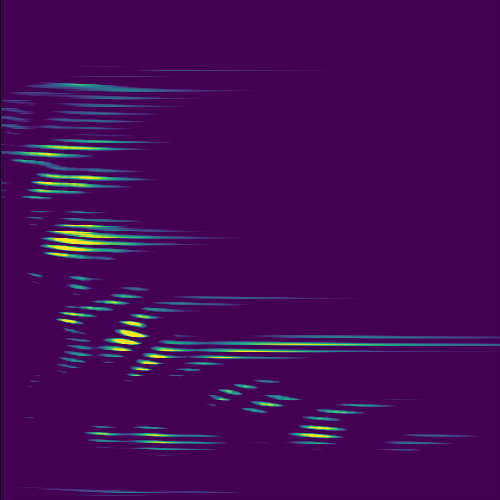semblance: (56, 293, 184, 379), (40, 216, 135, 262), (208, 378, 288, 413), (19, 138, 128, 163), (32, 169, 117, 201), (296, 419, 341, 444)
